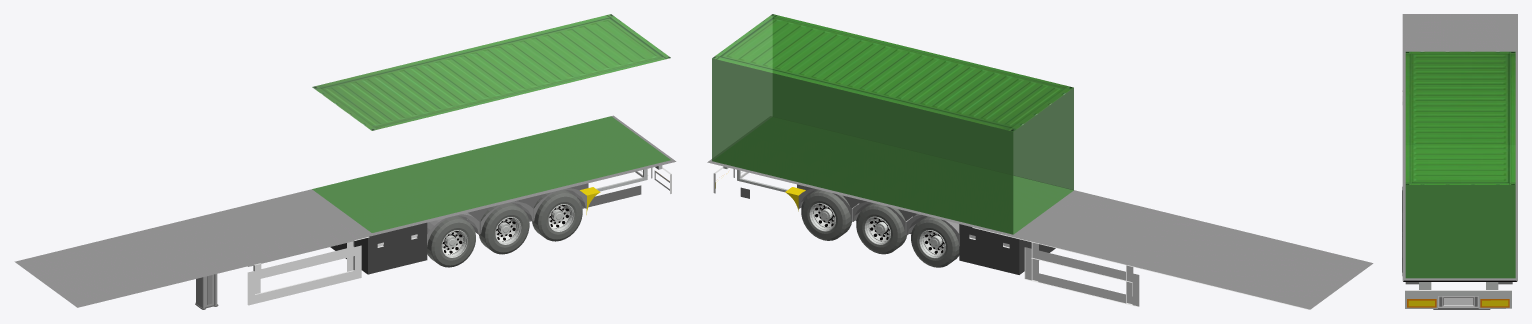
File: trailer_rs.glb
The picture shows the model from 3 angles, left to right: view 1: azimuth 30°, elevation 25°; view 2: azimuth 150°, elevation 25°; view 3: azimuth 270°, elevation 25°; orthographic projection. The views are drawn at different scales.
Parts seen in each view (by area): view 1: bodycar, 平面.011; view 2: 平面.011, bodycar; view 3: 平面.011, bodycar.
Part boxes in pixels (left/top/right/bottom): bodycar: left=14, top=115, right=676, bottom=309; 平面.011: left=312, top=14, right=670, bottom=232; 平面.011: left=712, top=14, right=1073, bottom=234; bodycar: left=707, top=116, right=1373, bottom=309; 平面.011: left=1405, top=51, right=1515, bottom=278; bodycar: left=1402, top=14, right=1517, bottom=309.
Bounding box in the file's own units: 9.22 × 2.28 × 1.69.
Materials: 4 (4 with a texture image).
